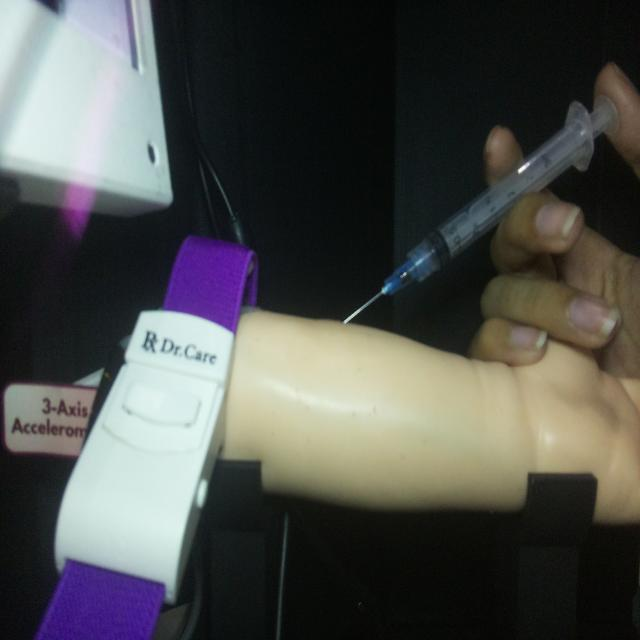29 degrees: (341, 92, 618, 326)
